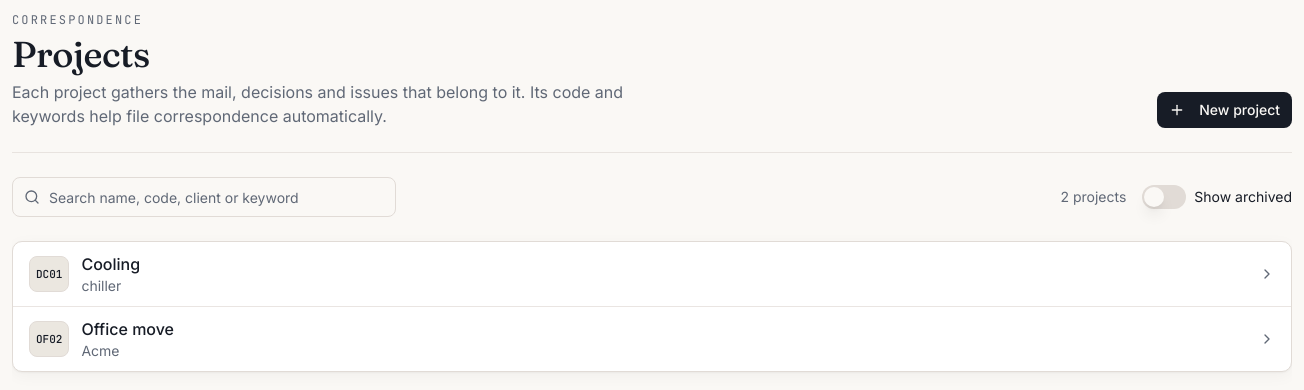
Projects UI › searches by name, code, client or keyword, with a count
Expected: the text "2 projects" is shown, left=1060, top=187, right=1126, bottom=207
Type "chill" into the search field named "Search projects" at (204, 197), box left=12, top=177, right=396, bottom=217
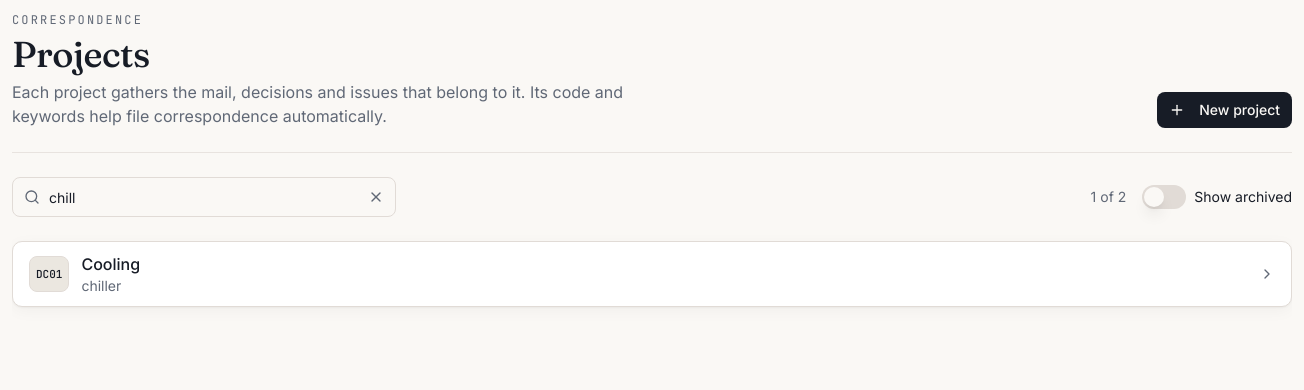
Expected: the text "Cooling" is shown, left=81, top=252, right=140, bottom=276
Result: the link "Office move" is gone
Result: the text "1 of 2" is shown at left=1091, top=187, right=1126, bottom=207
Replace the text in the search field named "Search projects" with "acme" at (204, 197), box left=12, top=177, right=396, bottom=217
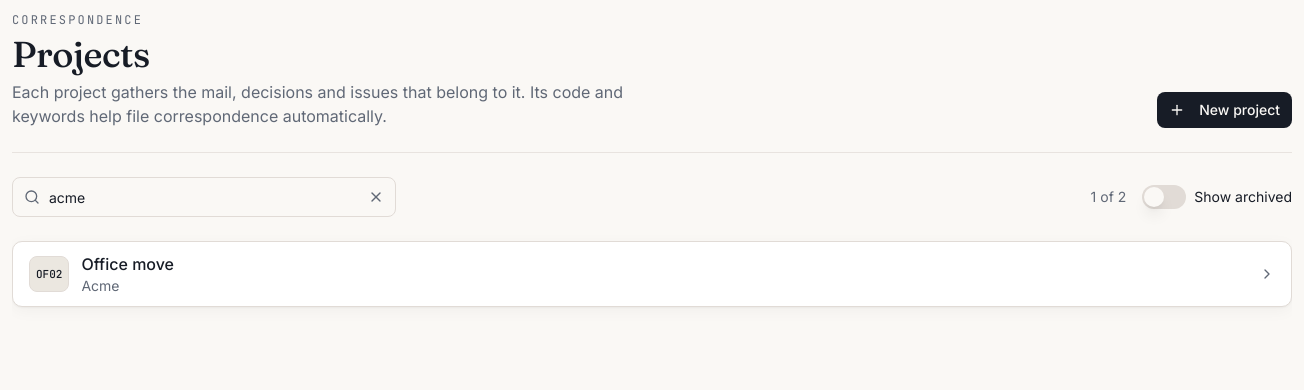
Result: the text "Office move" is shown at left=81, top=252, right=174, bottom=276
